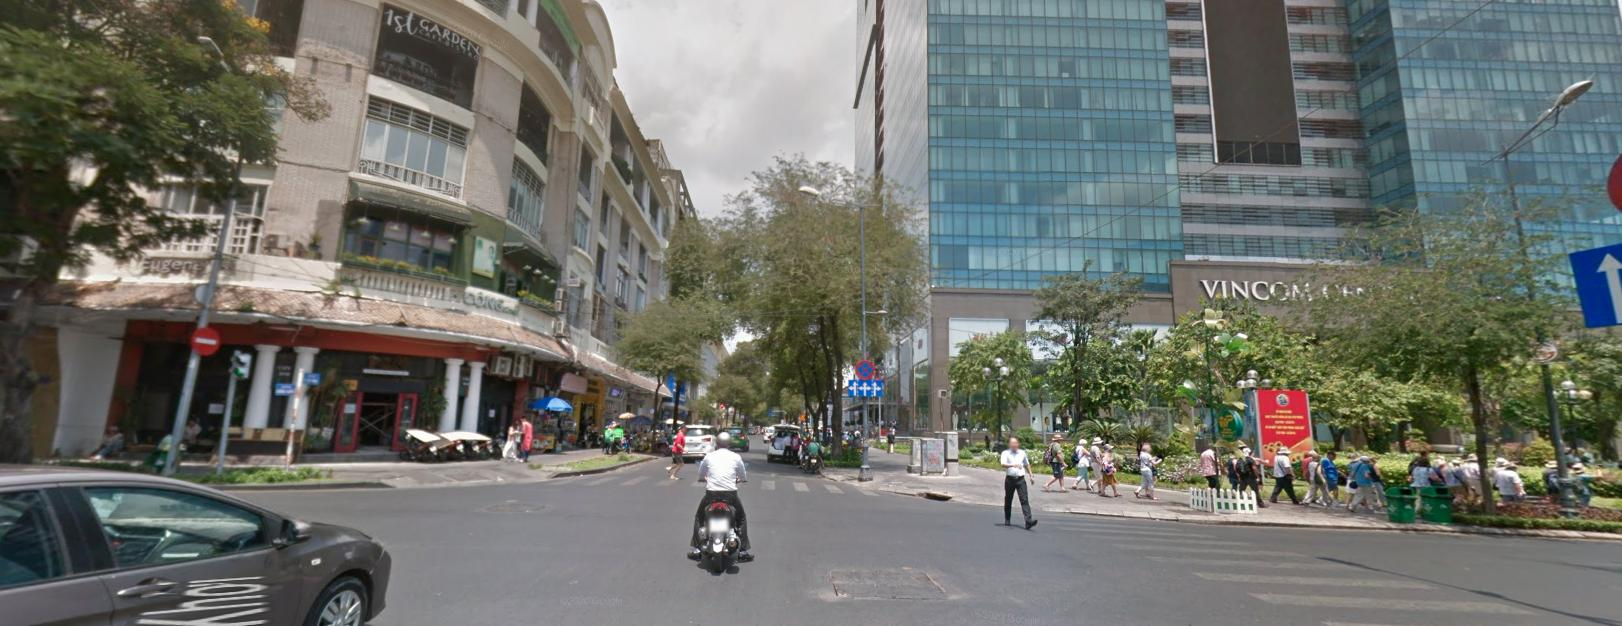Cam dung va do: (855, 359, 874, 378)
Cam nguoc chieu: (191, 325, 219, 354)
Nguy hiem: (798, 412, 806, 419)
